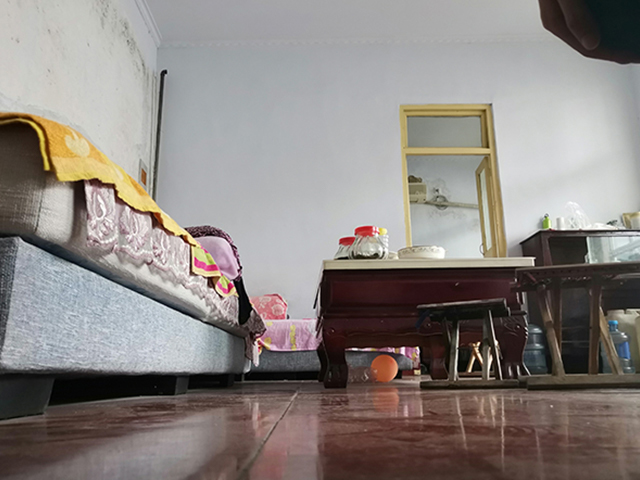sofa: (1, 108, 323, 422)
stool: (413, 259, 640, 392)
table: (310, 251, 537, 391)
